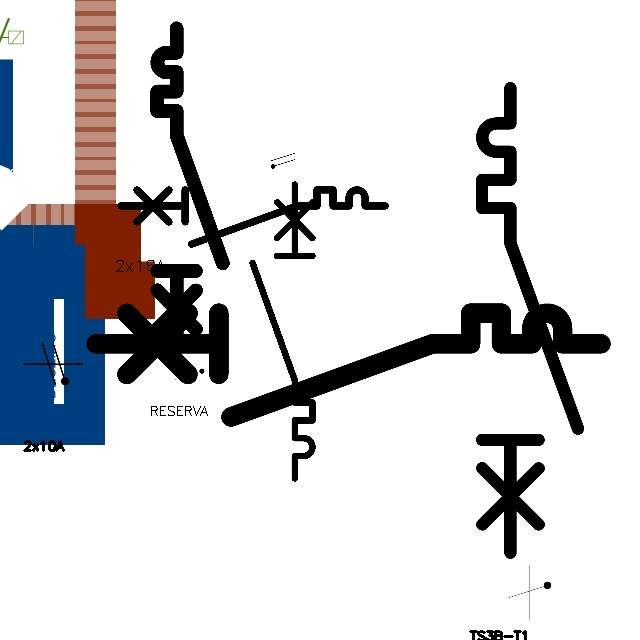interruptor_termomagnetico: (83, 300, 614, 430), (470, 76, 589, 565), (149, 20, 231, 357), (245, 176, 320, 485), (114, 183, 392, 251)
